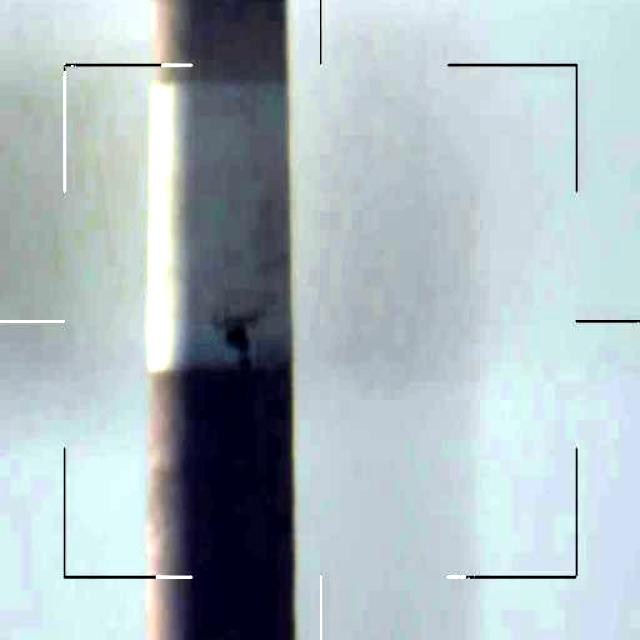bird: (215, 296, 275, 362)
